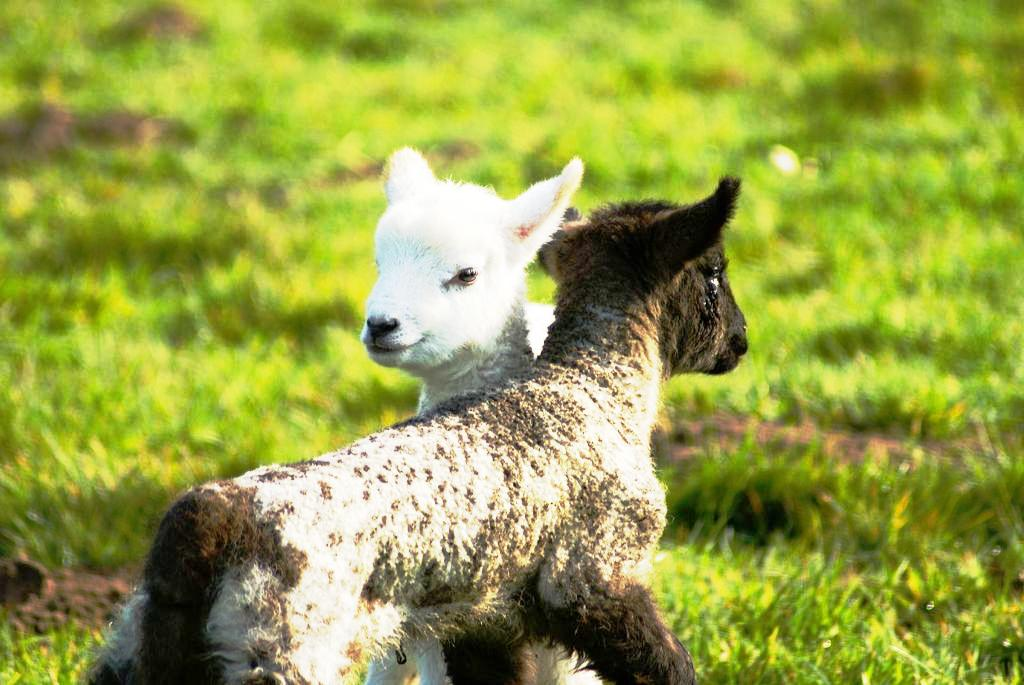Sheep: (146, 174, 747, 633), (358, 143, 584, 683)
